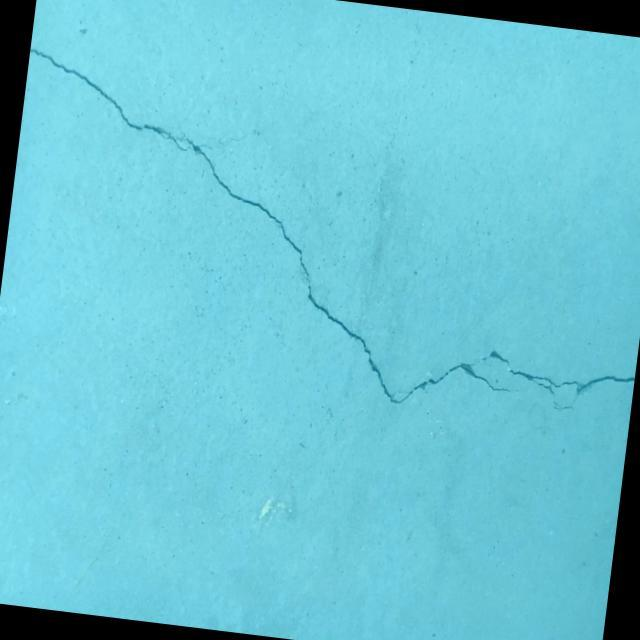crack: (0, 47, 640, 432)
